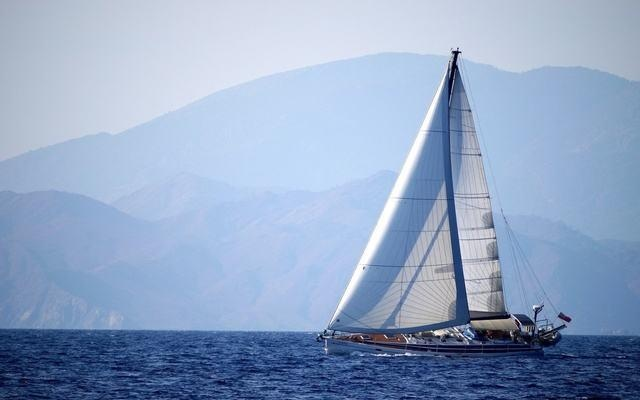fanchuan: (317, 47, 574, 360)
